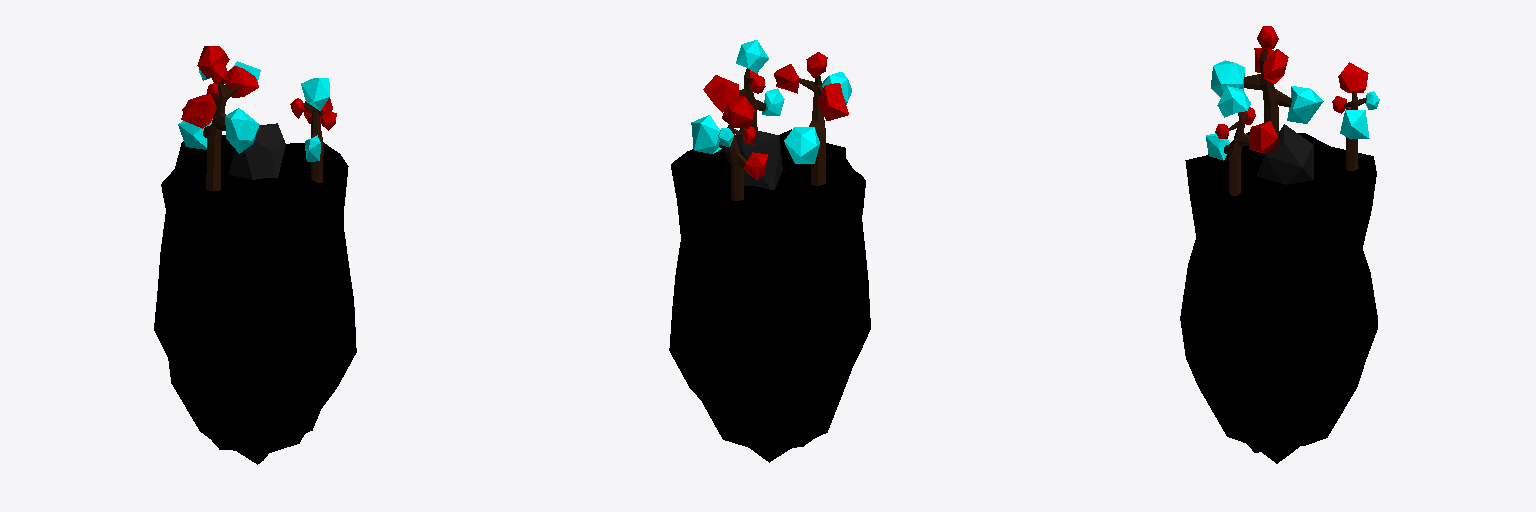
3 views of the same model, side by side, from view 1: azimuth 30°, elevation 25°; view 2: azimuth 150°, elevation 25°; view 3: azimuth 270°, elevation 25° (orthographic).
Visible parts, largest first — view 1: Island2Bottom, group25 group24 pSolid3, group25 group24 pasted__pCylinder1, group25 group24 pasted__pasted__pSolid2, group25 group24 pasted__pasted__pSolid3, group25 group24 pasted__pasted__pSolid1, group25 group24 pSolid1, pCylinder1 group25 group24, group25 group24 pasted__pSolid4, group25 group24 group26 pasted__pSolid6; view 2: Island2Bottom, group25 group24 pSolid3, group25 group24 pasted__pCylinder1, group25 group24 pasted__pSolid4, group25 group24 group26 pasted__pasted__pSolid4, group25 group24 pasted__pCylinder2 group26, group25 group24 pasted__pasted__pSolid3, group25 group24 pasted__pSolid1, group25 group24 group26 pasted__pSolid6, group25 group24 pSolid1; view 3: Island2Bottom, group25 group24 pSolid3, group25 group24 pasted__pCylinder1, pCylinder1 group25 group24, group25 group24 pasted__pSolid4, group25 group24 pasted__pasted__pSolid2, group25 group24 pasted__pSolid1, group25 group24 group26 pasted__pasted__pSolid4, group25 group24 pSolid1, group25 group24 group26 pasted__pSolid6, group25 group24 pasted__pasted__pSolid1, group25 group24 pasted__pCylinder2 group26.
Part boxes in pixels (left/top/right/bottom): Island2Bottom: left=154, top=135, right=356, bottom=464; group25 group24 pSolid3: left=228, top=123, right=285, bottom=179; group25 group24 pasted__pCylinder1: left=203, top=84, right=238, bottom=190; group25 group24 pasted__pasted__pSolid2: left=225, top=108, right=259, bottom=153; group25 group24 pasted__pasted__pSolid3: left=181, top=93, right=216, bottom=128; group25 group24 pasted__pasted__pSolid1: left=225, top=66, right=258, bottom=97; group25 group24 pSolid1: left=301, top=78, right=329, bottom=110; pCylinder1 group25 group24: left=303, top=103, right=323, bottom=182; group25 group24 pasted__pSolid4: left=178, top=119, right=212, bottom=149; group25 group24 group26 pasted__pSolid6: left=197, top=46, right=229, bottom=78; Island2Bottom: left=669, top=129, right=870, bottom=462; group25 group24 pSolid3: left=724, top=128, right=782, bottom=189; group25 group24 pasted__pCylinder1: left=799, top=75, right=825, bottom=185; group25 group24 pasted__pSolid4: left=784, top=127, right=819, bottom=163; group25 group24 group26 pasted__pasted__pSolid4: left=691, top=115, right=721, bottom=153; group25 group24 pasted__pCylinder2 group26: left=719, top=125, right=746, bottom=200; group25 group24 pasted__pasted__pSolid3: left=817, top=83, right=848, bottom=120; group25 group24 pasted__pSolid1: left=703, top=75, right=738, bottom=112; group25 group24 group26 pasted__pSolid6: left=722, top=96, right=754, bottom=128; group25 group24 pSolid1: left=736, top=40, right=768, bottom=73; Island2Bottom: left=1180, top=132, right=1377, bottom=463; group25 group24 pSolid3: left=1257, top=124, right=1313, bottom=184; group25 group24 pasted__pCylinder1: left=1244, top=49, right=1291, bottom=133; pCylinder1 group25 group24: left=1224, top=112, right=1248, bottom=195; group25 group24 pasted__pSolid4: left=1287, top=86, right=1323, bottom=123; group25 group24 pasted__pasted__pSolid2: left=1211, top=60, right=1244, bottom=97; group25 group24 pasted__pSolid1: left=1249, top=121, right=1278, bottom=153; group25 group24 group26 pasted__pasted__pSolid4: left=1340, top=110, right=1369, bottom=139; group25 group24 pSolid1: left=1217, top=86, right=1250, bottom=117; group25 group24 group26 pasted__pSolid6: left=1338, top=62, right=1368, bottom=92; group25 group24 pasted__pasted__pSolid1: left=1263, top=49, right=1288, bottom=83; group25 group24 pasted__pCylinder2 group26: left=1344, top=91, right=1366, bottom=170.
Bounding box in the file's own units: 11.05 × 26.59 × 11.58.
5 materials, 4 textured.